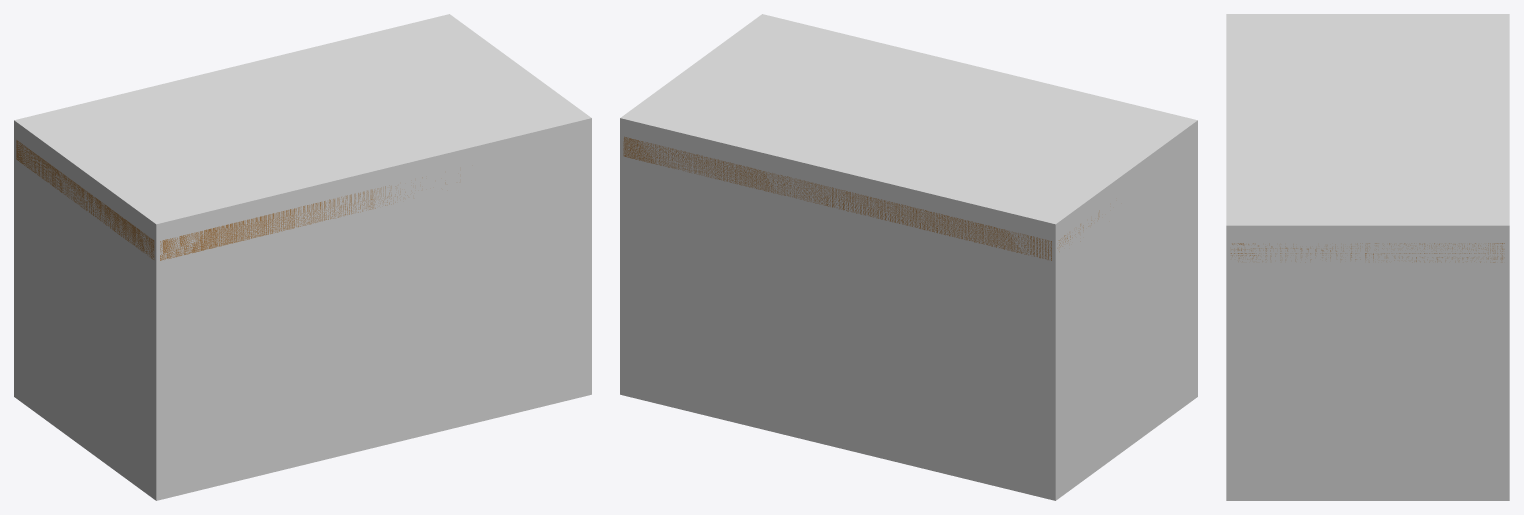
The model's file is display-table_commercial.glb.
The picture shows the model from 3 angles, left to right: view 1: azimuth 30°, elevation 25°; view 2: azimuth 150°, elevation 25°; view 3: azimuth 270°, elevation 25°; orthographic projection.
Visible parts, largest first — view 1: COL_display-table, MESH_DisplayTop; view 2: COL_display-table, MESH_DisplayTop; view 3: COL_display-table, MESH_DisplayTop.
Boxes of the visible parts, box(x1,y1,x2,y2) form: COL_display-table: box(14, 14, 591, 500); MESH_DisplayTop: box(16, 140, 445, 260); COL_display-table: box(620, 14, 1197, 500); MESH_DisplayTop: box(623, 136, 1099, 260); COL_display-table: box(1226, 14, 1509, 500); MESH_DisplayTop: box(1230, 243, 1504, 262).
Size of the model in its own units: 1.45 by 0.88 by 0.82.
